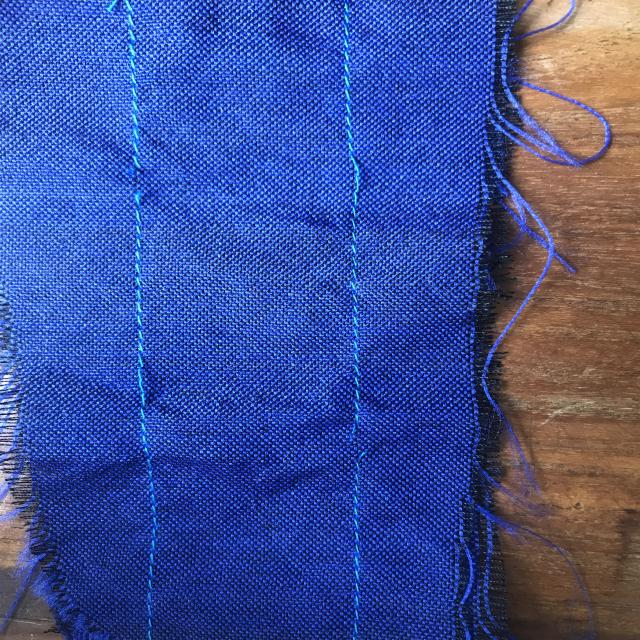skip: (323, 130, 401, 204)
